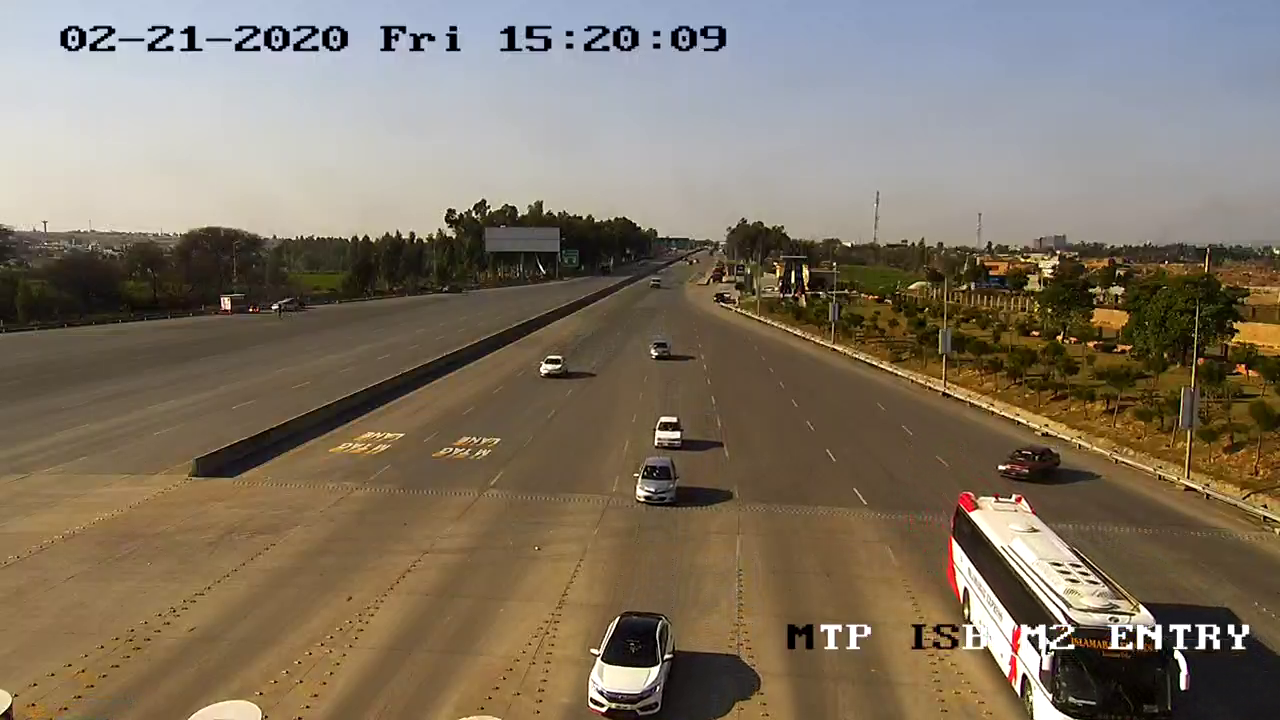f1: (579, 595, 680, 720), (995, 433, 1067, 487), (628, 451, 688, 509)
f4: (945, 493, 1177, 716)
